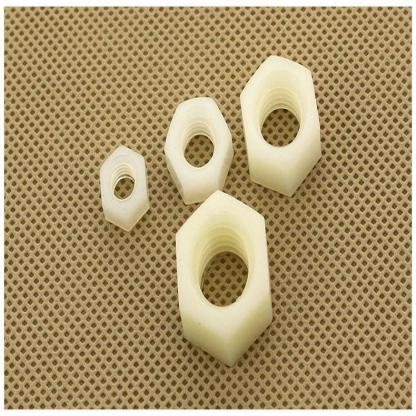FOD: (172, 188, 274, 370), (239, 52, 321, 193), (162, 93, 234, 207), (98, 142, 150, 237)
